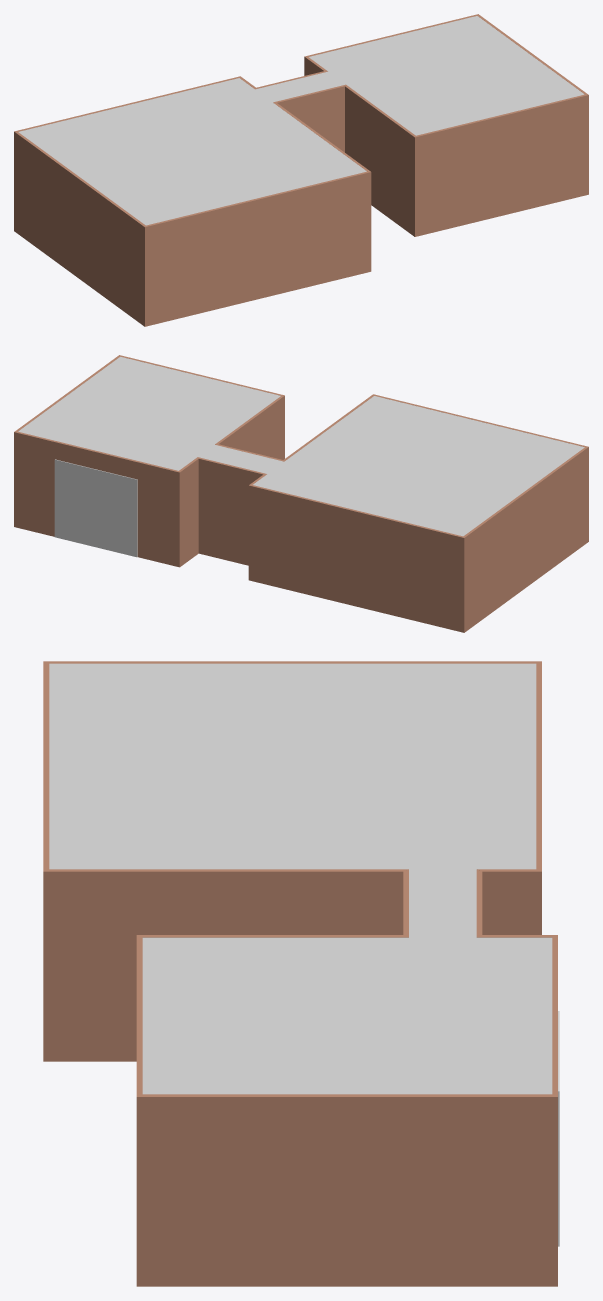
File: Ambiente.FBX
3 renders of one model, top to bottom at view 1: azimuth 30°, elevation 25°; view 2: azimuth 150°, elevation 25°; view 3: azimuth 270°, elevation 25°, orthographic. The views are drawn at different scales.
Parts seen in each view (by area): view 1: Parede, Teto; view 2: Parede, Teto, Box001; view 3: Teto, Parede.
Boxes of the visible parts, x1,y1,x2,y2 form: Parede: (14, 14, 588, 326); Teto: (18, 16, 584, 225); Parede: (14, 355, 588, 632); Teto: (18, 356, 584, 536); Box001: (54, 459, 137, 557); Teto: (49, 663, 552, 1094); Parede: (43, 661, 557, 1286).
Bounding box in the file's own units: 1066 × 217 × 534.
